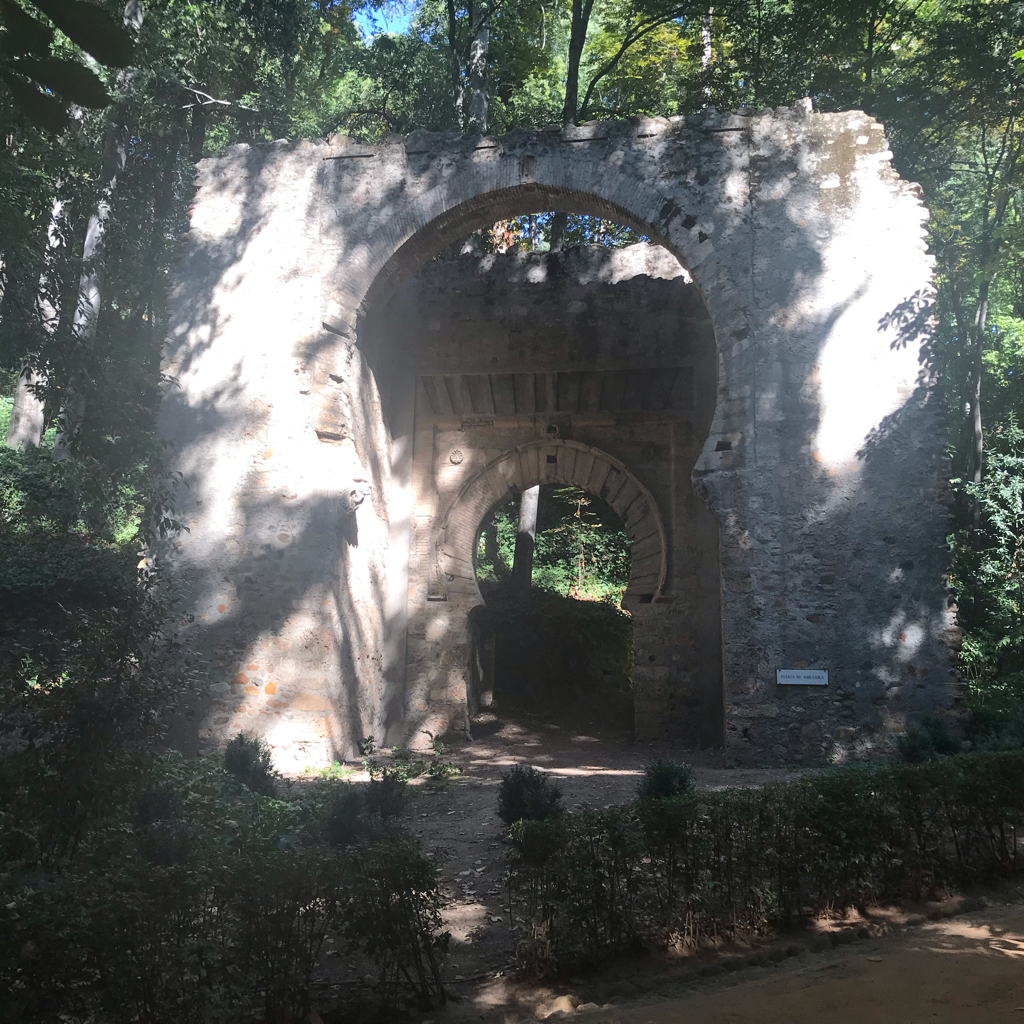arco-herradura: (337, 172, 744, 529), (460, 469, 650, 630)
dintel-adovelado: (419, 364, 690, 420)
